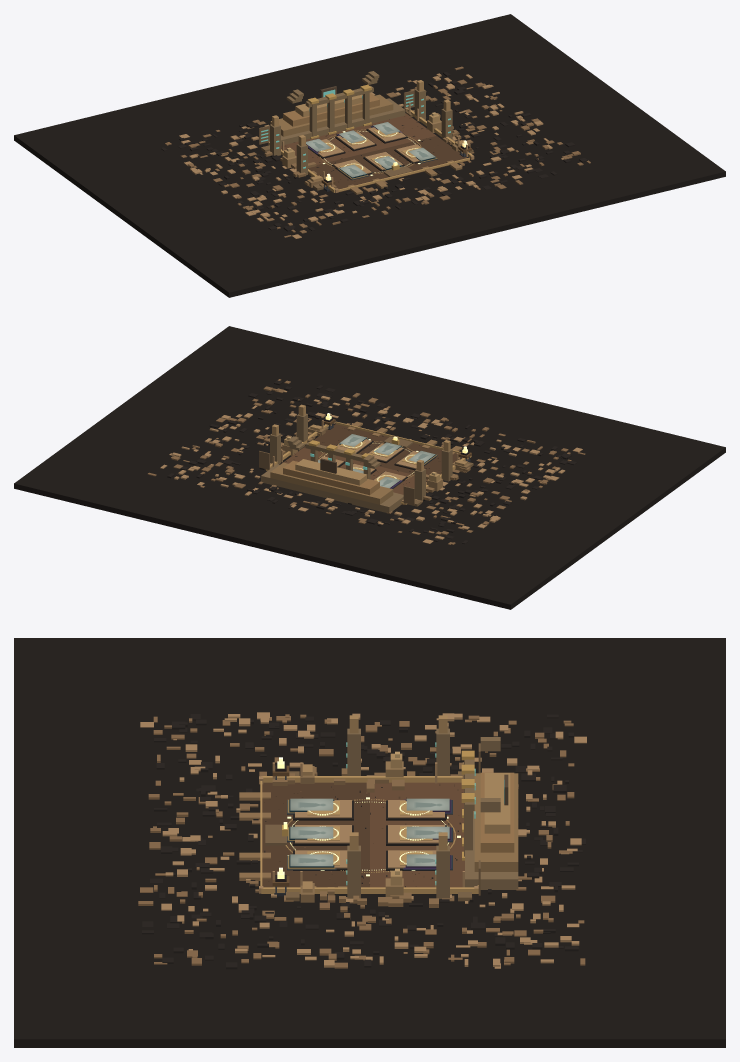
The model's file is relic.glb.
The picture shows the model from 3 angles, top to bottom: view 1: azimuth 30°, elevation 25°; view 2: azimuth 150°, elevation 25°; view 3: azimuth 270°, elevation 25°; orthographic projection. The views are drawn at different scales.
Visible parts, largest first — view 1: Bedrock, Outer_Rubble, Sun_Temple, Friendly_Floor, Enemy_Floor, Six_Grounded_Foundations, Obelisks, Temple_Columns, Arena_Curb, Sand_Drifts, Broken_Statue; view 2: Bedrock, Outer_Rubble, Sun_Temple, Friendly_Floor, Obelisks, Six_Grounded_Foundations, Enemy_Floor, Arena_Curb, Temple_Columns; view 3: Bedrock, Outer_Rubble, Friendly_Floor, Sun_Temple, Enemy_Floor, Six_Grounded_Foundations, Obelisks, Arena_Curb, Rubble_Piles, Sand_Drifts, Temple_Columns, Broken_Statue.
Boxes of the visible parts, <box> form: Bedrock: <box>14,14,725,297</box>; Outer_Rubble: <box>161,66,590,238</box>; Sun_Temple: <box>270,92,405,145</box>; Friendly_Floor: <box>308,136,466,192</box>; Enemy_Floor: <box>281,113,436,164</box>; Six_Grounded_Foundations: <box>308,127,422,179</box>; Obelisks: <box>270,80,452,175</box>; Temple_Columns: <box>307,84,371,138</box>; Arena_Curb: <box>268,109,472,192</box>; Sand_Drifts: <box>261,110,473,194</box>; Broken_Statue: <box>282,112,441,168</box>; Bedrock: <box>14,326,725,609</box>; Outer_Rubble: <box>147,379,585,544</box>; Sun_Temple: <box>261,459,403,512</box>; Friendly_Floor: <box>303,424,459,474</box>; Obelisks: <box>270,404,452,500</box>; Six_Grounded_Foundations: <box>318,439,435,488</box>; Enemy_Floor: <box>281,448,427,504</box>; Arena_Curb: <box>266,421,471,504</box>; Temple_Columns: <box>308,440,372,479</box>; Bedrock: <box>14,638,725,1047</box>; Outer_Rubble: <box>138,712,586,969</box>; Friendly_Floor: <box>262,782,369,887</box>; Sun_Temple: <box>465,772,518,889</box>; Enemy_Floor: <box>370,782,464,887</box>; Six_Grounded_Foundations: <box>293,800,446,870</box>; Obelisks: <box>347,715,449,899</box>; Arena_Curb: <box>260,776,478,893</box>; Rubble_Piles: <box>272,767,438,907</box>; Sand_Drifts: <box>239,771,471,901</box>; Temple_Columns: <box>461,750,474,860</box>; Broken_Statue: <box>385,751,403,896</box>.
Size of the model in its own units: 48 by 4.46 by 36.
Materials: 38 (1 with a texture image).
